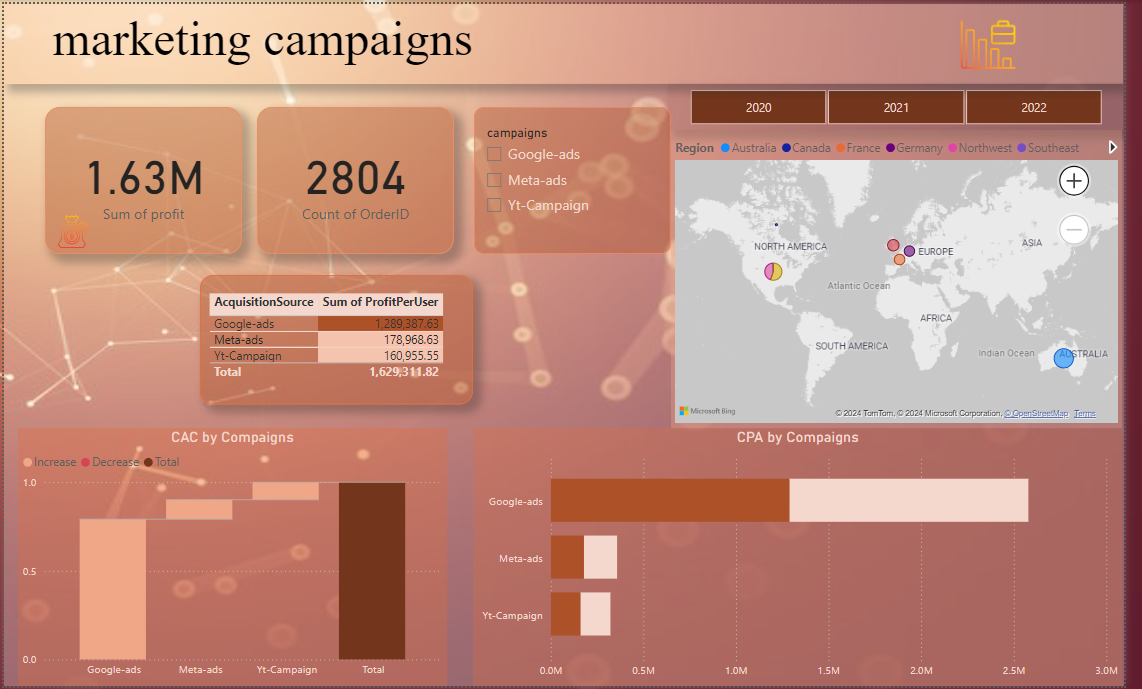

What the dashboard file says about the page in this screenshot:
{"tool":"powerbi","page":{"name":"Page 1","canvas":[1500,1000],"ordinal":0},"visuals":[{"type":"filledMap","fields":{"Category":["Sheet1.Country"],"Series":["Sheet1.Region"]},"box":[0,543.7,1500,438.3],"z":1},{"type":"card","fields":{"Values":["Sum(Sheet1.profit)"]},"box":[311.7,0,239.5,168.7],"z":2},{"type":"card","fields":{"Values":["Sum(Sheet1.per-user profitbility)"]},"box":[588.9,0,225.9,168.7],"z":3},{"type":"slicer","fields":{"Values":["Sheet1.AcquisitionSource"]},"box":[10.5,21.1,227.4,91.9],"z":4},{"type":"card","fields":{"Values":["Sum(Sheet1.Cost_Per_Acquisition)"]},"box":[881,0,225.9,168.7],"z":6},{"type":"tableEx","fields":{"Values":["Sheet1.AcquisitionSource","Sum(Sheet1.per-user profitbility)","Sum(Sheet1.Cost_Per_Acquisition)"]},"box":[0,350.9,515.1,149.1],"z":7}]}

Visuals, with their boxes on the page's 1500x1000 design canvas (x1, y1, x2, y2). These are canvas units, not pixel positions in the 1142x689 screenshot, which may show the page scaled, cropped or inside an application window:
filledMap - Sheet1.Country x Sheet1.Region: box=[0, 544, 1500, 982]
card - Sum(Sheet1.profit): box=[312, 0, 551, 169]
card - Sum(Sheet1.per-user profitbility): box=[589, 0, 815, 169]
slicer - Sheet1.AcquisitionSource: box=[10, 21, 238, 113]
card - Sum(Sheet1.Cost_Per_Acquisition): box=[881, 0, 1107, 169]
tableEx - Sheet1.AcquisitionSource x Sum(Sheet1.per-user profitbility): box=[0, 351, 515, 500]
